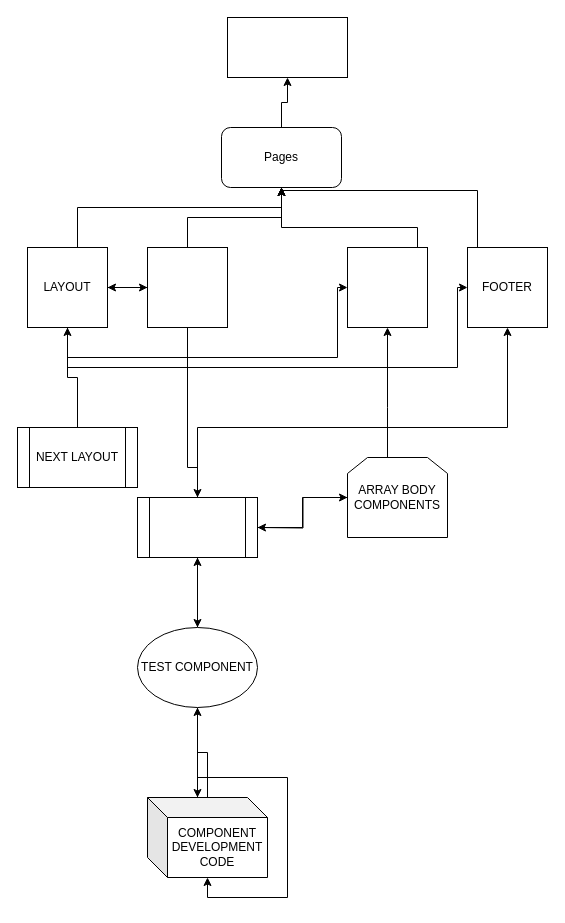
This 565x923 diagram has some shape labels left out. The centre of each missing label's shape, as x and y in pixels:
"BODY" belongs at point 387,287.
"COMPONENT" belongs at point 197,527.
"Ecommerce Builder" belongs at point 287,47.
"HEADER" belongs at point 187,287.
